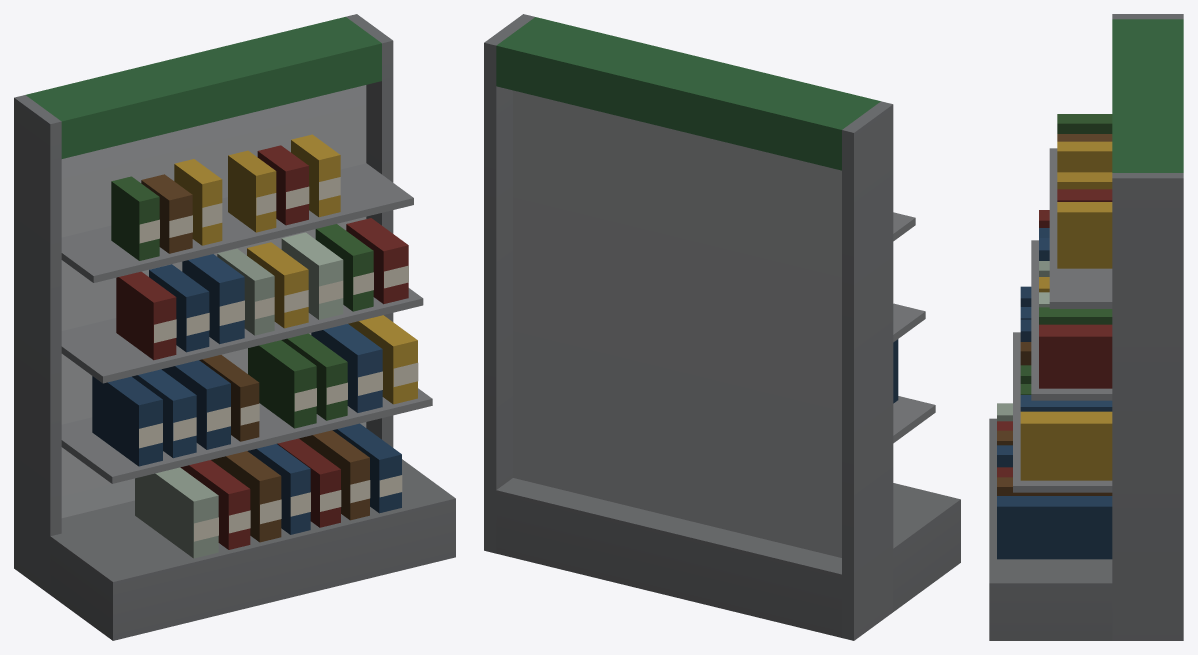
Rendered from shelf.end.bottles.glb.
3 renders of one model, left to right at view 1: azimuth 30°, elevation 25°; view 2: azimuth 150°, elevation 25°; view 3: azimuth 270°, elevation 25°, orthographic. The views are drawn at different scales.
Parts seen in each view (by area): view 1: shelf_end_bottles; view 2: shelf_end_bottles; view 3: shelf_end_bottles.
Boxes of the visible parts, x1,y1,x2,y2 form: shelf_end_bottles: (14, 14, 455, 640); shelf_end_bottles: (484, 14, 960, 640); shelf_end_bottles: (989, 14, 1183, 640).
Size of what is drawn, in the model's own units: 1.52 by 2 by 0.762.
